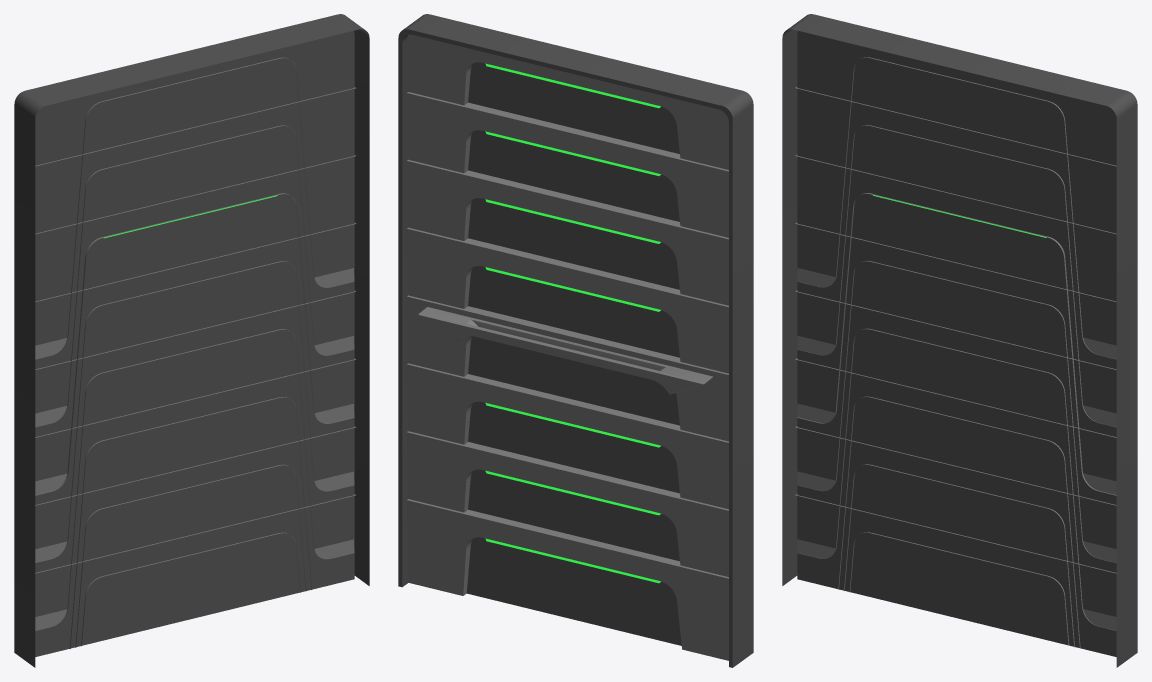
The model's file is Door.FBX.
The picture shows the model from 3 angles, left to right: view 1: azimuth 30°, elevation 25°; view 2: azimuth 150°, elevation 25°; view 3: azimuth 330°, elevation 25°; orthographic projection.
Parts seen in each view (by area): view 1: Door1, Line003; view 2: Line003, Door1; view 3: Door1, Line003.
Boxes of the visible parts, x1,y1,x2,y2 form: Door1: [14, 14, 369, 667]; Line003: [35, 57, 356, 648]; Line003: [406, 34, 728, 660]; Door1: [398, 14, 753, 667]; Door1: [782, 14, 1137, 667]; Line003: [795, 57, 1116, 648].
Size of the model in its own units: 294 by 471 by 39.13.
